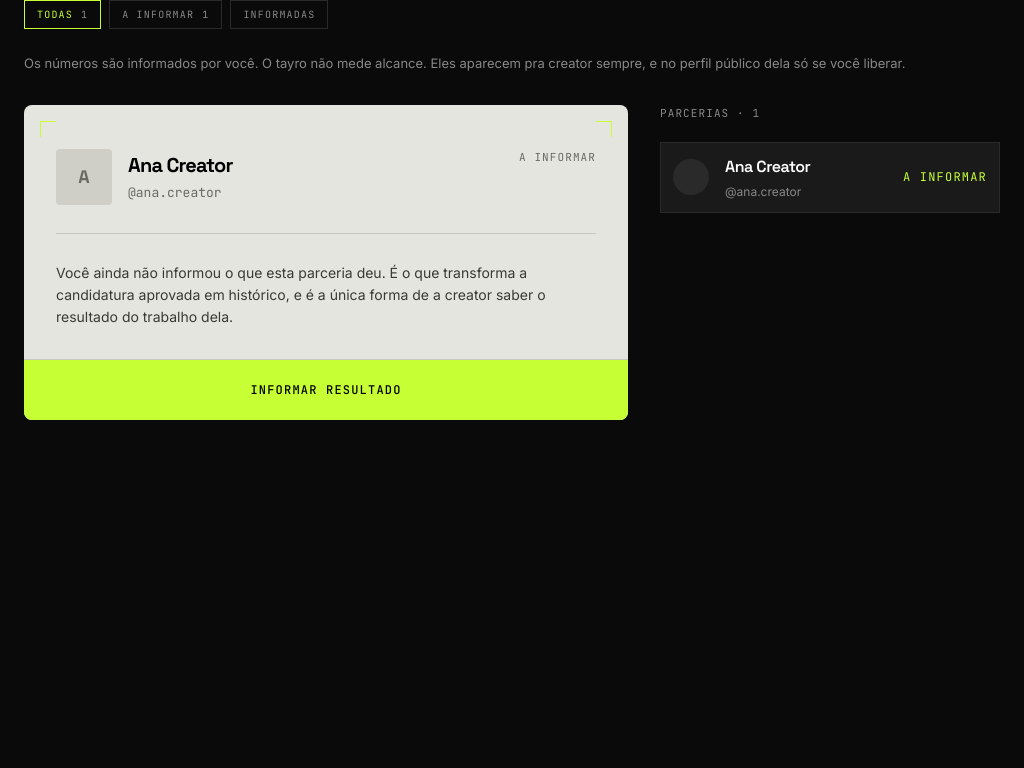
CampaignResultsTab › avisa que a observação é lida pela creator
The image size is (1024, 768).
Click the button "Informar resultado".
click(326, 390)  # box [24,360,628,420]
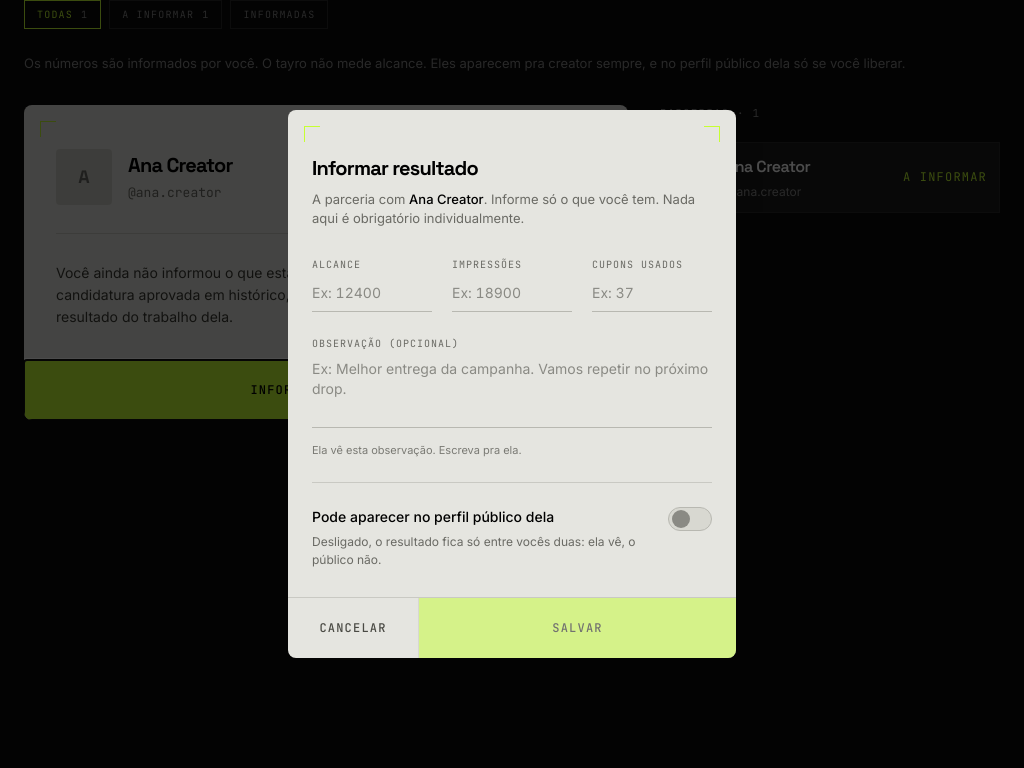
Result: the text "Ela vê esta observação. Escreva pra ela." is shown at [312,443,522,457]
